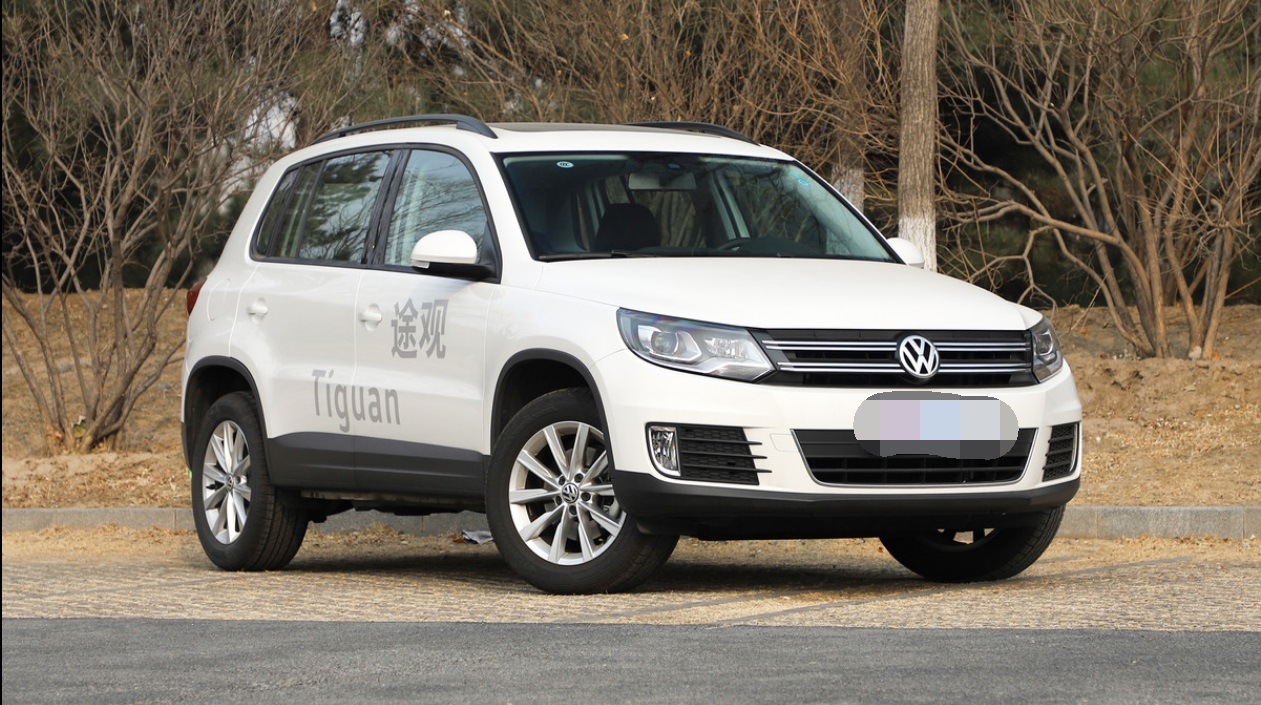SUV: (177, 106, 1088, 609)
